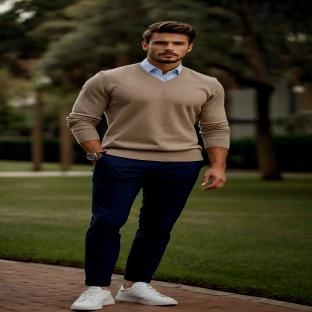Human: (67, 21, 230, 310)
